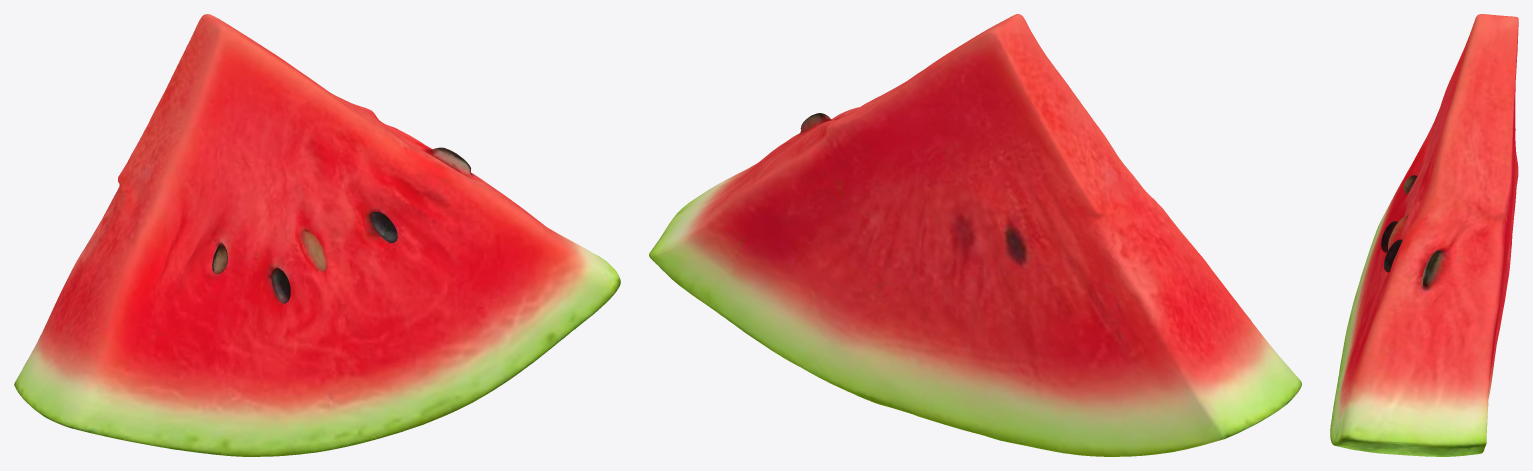
The model's file is watermelon-slice.glb.
3 renders of one model, left to right at view 1: azimuth 30°, elevation 25°; view 2: azimuth 150°, elevation 25°; view 3: azimuth 270°, elevation 25°, orthographic. The views are drawn at different scales.
Parts seen in each view (by area): view 1: mesh_node; view 2: mesh_node; view 3: mesh_node.
Boxes of the visible parts, left/top/right/bottom form: mesh_node: left=14, top=14, right=620, bottom=456; mesh_node: left=649, top=14, right=1301, bottom=456; mesh_node: left=1330, top=14, right=1518, bottom=456.
Size of the model in its own units: 0.802 by 0.538 by 0.2507.
Materials: 1 (1 with a texture image).
